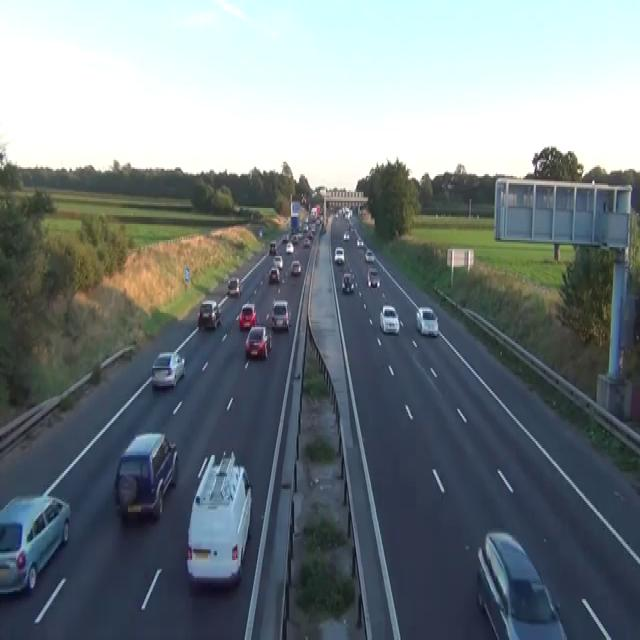Car: (476, 530, 568, 638), (185, 449, 252, 586), (0, 492, 70, 596), (114, 432, 178, 519), (150, 350, 185, 390), (245, 325, 272, 359), (197, 299, 221, 329), (415, 306, 438, 336), (270, 298, 291, 330), (379, 304, 399, 334), (236, 302, 256, 331), (226, 275, 242, 297), (367, 267, 380, 288), (341, 272, 354, 293), (334, 245, 344, 265), (268, 266, 280, 282), (290, 260, 301, 276), (273, 254, 283, 268), (364, 249, 374, 261), (349, 272, 357, 286), (344, 206, 352, 219), (269, 240, 276, 254), (285, 242, 294, 252), (302, 237, 310, 247), (349, 226, 357, 236), (310, 206, 316, 219), (308, 222, 315, 233), (356, 237, 363, 247), (291, 233, 298, 243), (317, 215, 323, 226), (343, 231, 350, 240), (281, 233, 288, 242), (306, 230, 313, 238), (321, 224, 326, 233), (285, 217, 290, 226), (258, 228, 262, 236), (348, 222, 352, 230), (334, 212, 338, 218)
